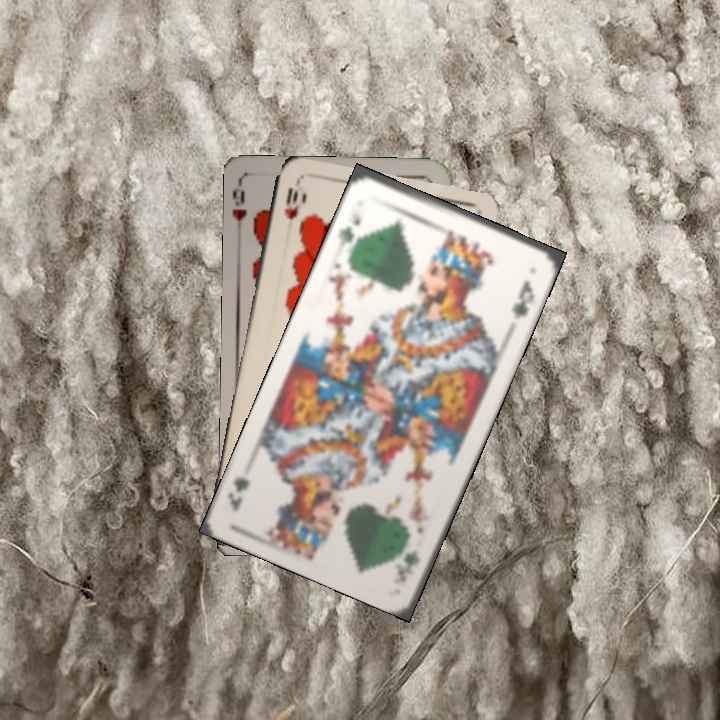GK: (334, 207, 364, 253), (393, 545, 422, 585)
H10: (280, 183, 301, 222)
H9: (230, 186, 249, 224)
